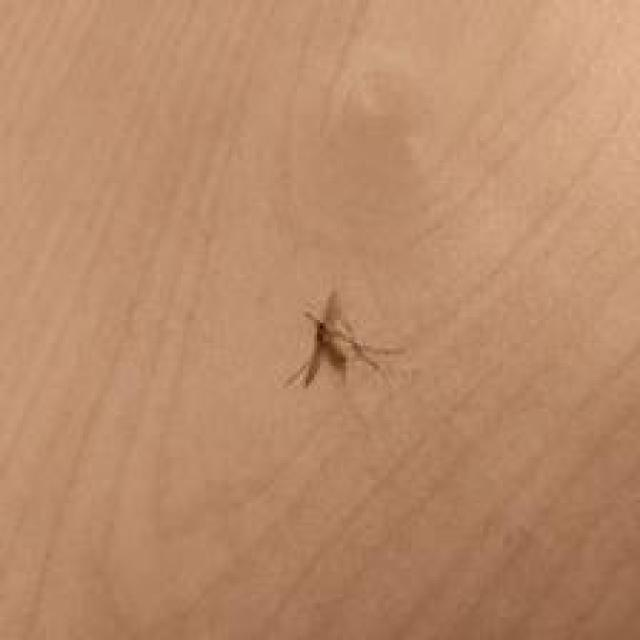Culex: (283, 288, 406, 392)
